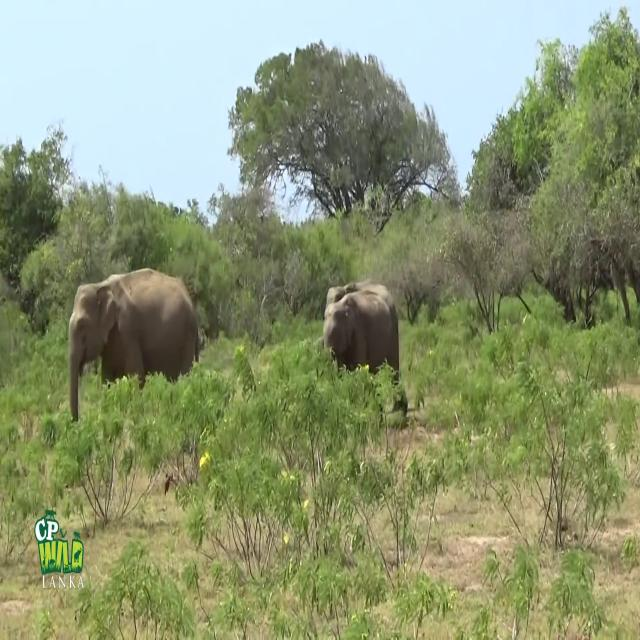Elephant: (68, 266, 199, 422), (322, 278, 401, 384)
